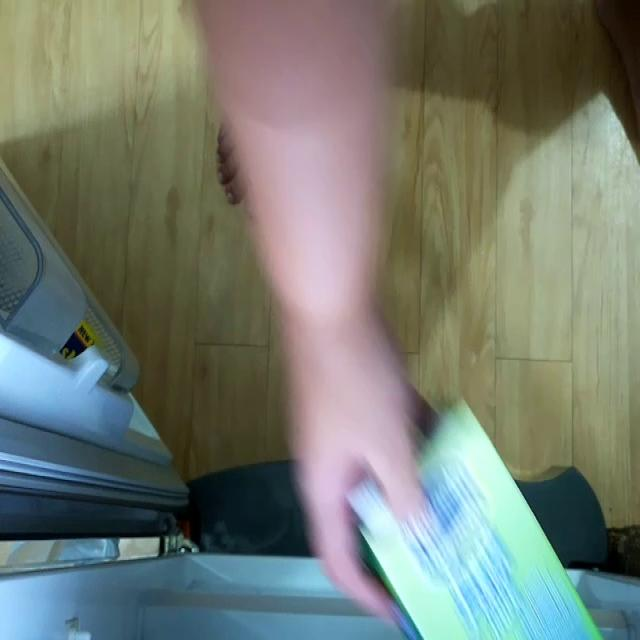milk: (357, 400, 601, 640)
